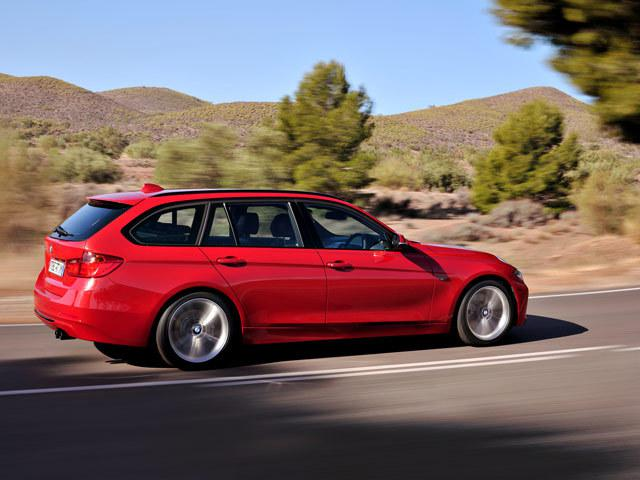Car: (28, 174, 554, 386)
